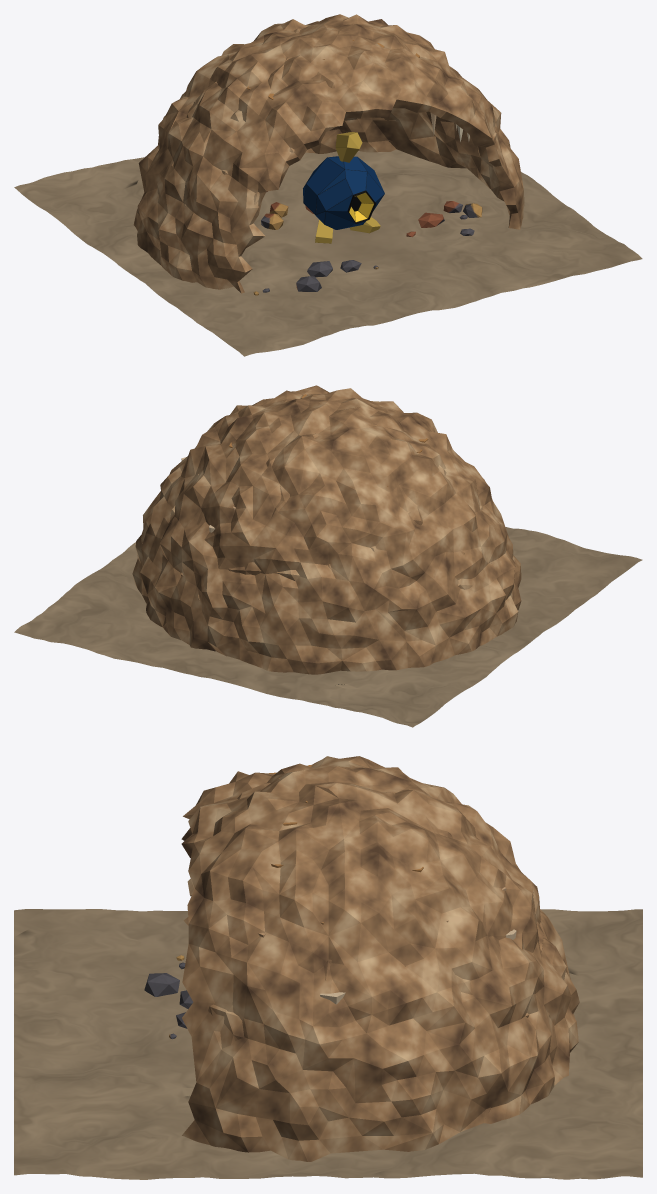
File: asset.glb
3 views of the same model, one above another, from view 1: azimuth 30°, elevation 25°; view 2: azimuth 150°, elevation 25°; view 3: azimuth 270°, elevation 25° (orthographic). The views are drawn at different scales.
Visible parts, largest first — view 1: Cueva_Paredes, Cueva_Piso, CuerpoRoggenrola, Cueva_Piedras, Cresta; view 2: Cueva_Paredes, Cueva_Piso; view 3: Cueva_Paredes, Cueva_Piso, Cueva_Piedras.
Part boxes in pixels (x1=…): Cueva_Paredes: x1=133, y1=14, x2=524, y2=293; Cueva_Piso: x1=14, y1=149, x2=642, y2=356; CuerpoRoggenrola: x1=303, y1=156, x2=384, y2=229; Cueva_Piedras: x1=253, y1=191, x2=482, y2=295; Cresta: x1=335, y1=132, x2=362, y2=162; Cueva_Paredes: x1=132, y1=385, x2=521, y2=674; Cueva_Piso: x1=14, y1=527, x2=642, y2=727; Cueva_Paredes: x1=181, y1=756, x2=579, y2=1161; Cueva_Piso: x1=14, y1=909, x2=642, y2=1179; Cueva_Piedras: x1=144, y1=955, x2=193, y2=1039.
Size of the model in its own units: 60 by 28.51 by 60.
2 materials, 2 textured.
